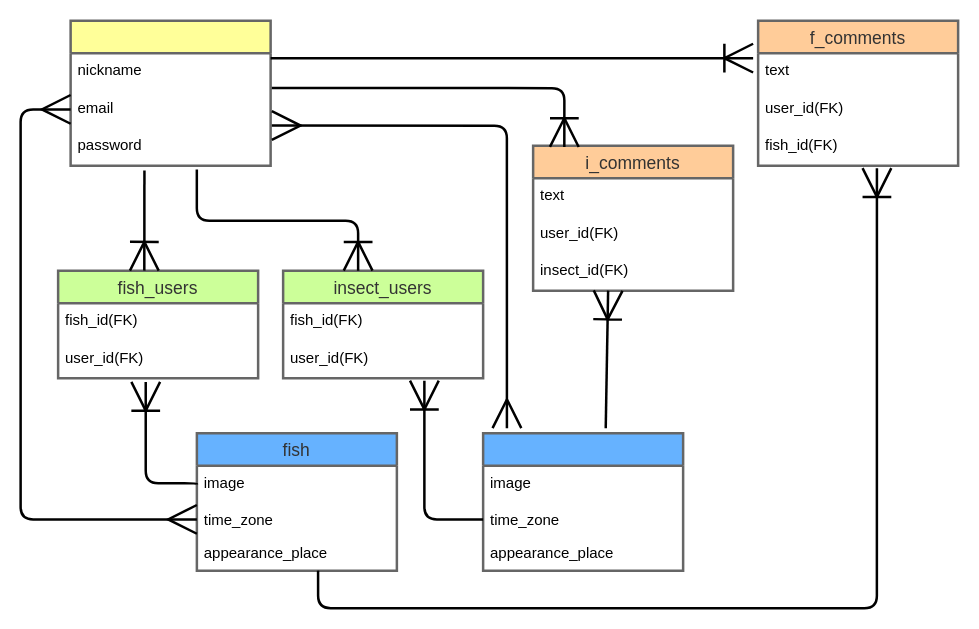
The diagram is 979 pixels wide and 629 high, and some of its shapes have lost their labels. The box of each missing label's shape, as (x1, y1, x2, y2) in pixels:
insects: (481, 431, 684, 571)
users: (69, 19, 271, 166)
